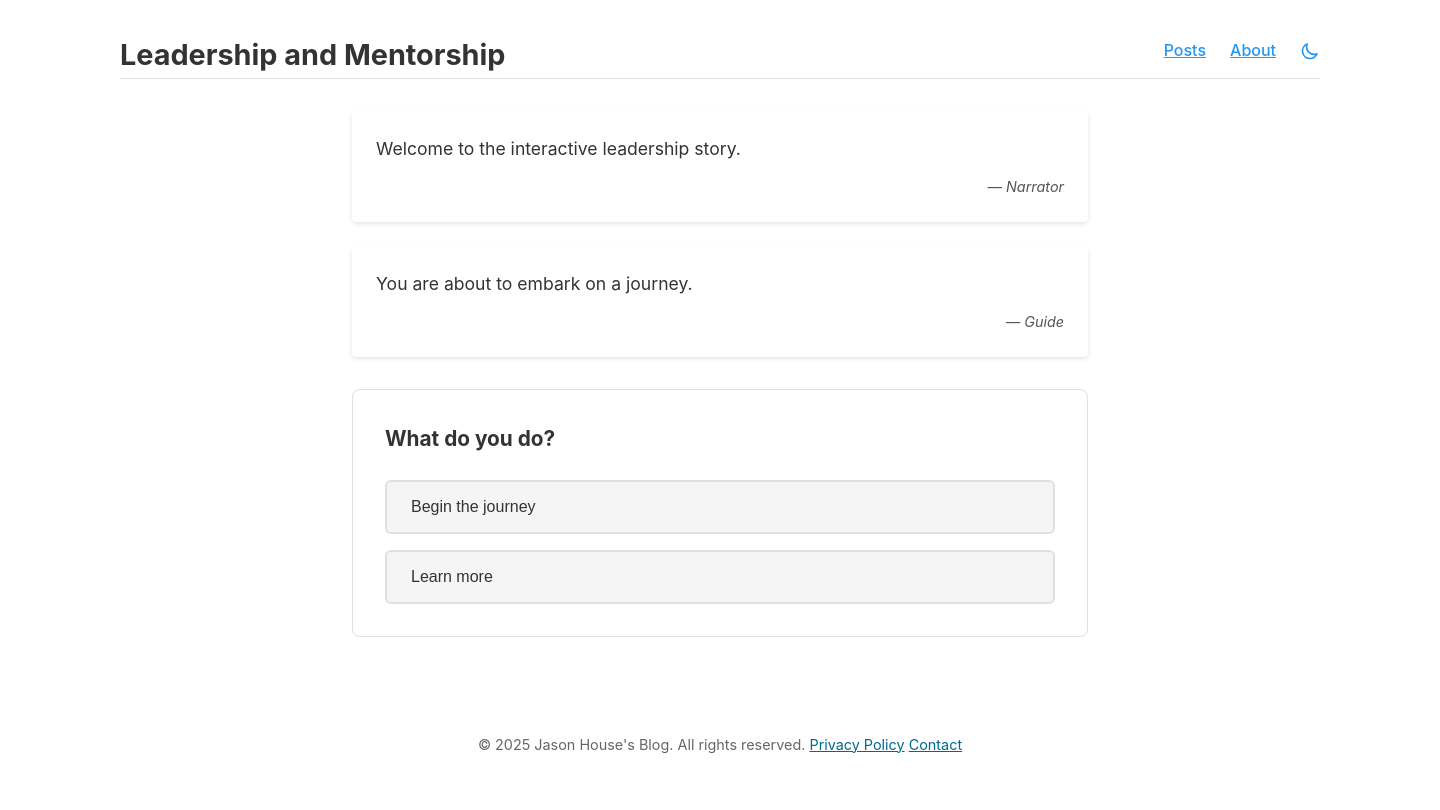
Test: Story Page › Story Navigation › displays "Choose Another Story" button at story end
Click the button "Begin the journey" at (473, 506), box left=385, top=480, right=1055, bottom=534
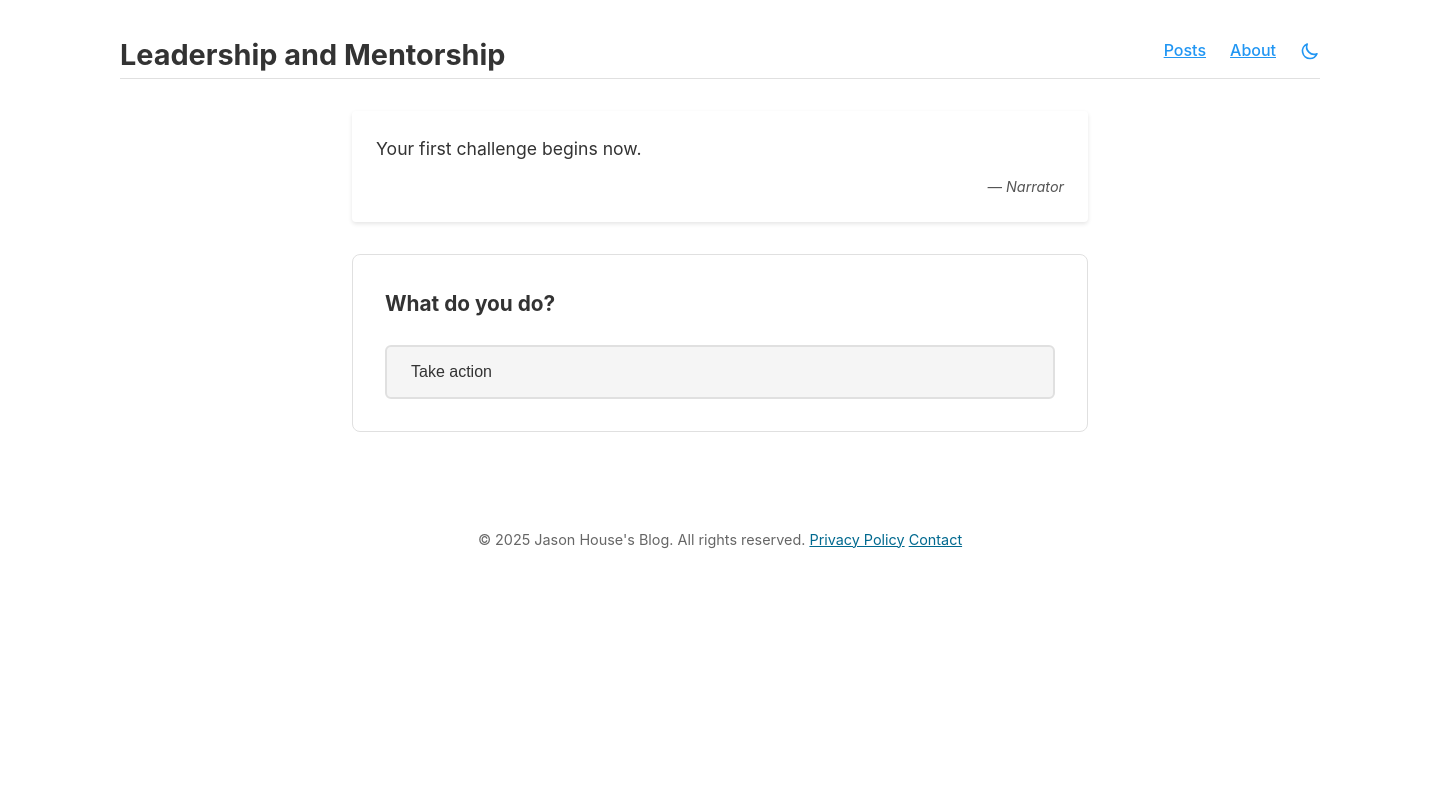
Expected: the button "Take action" is shown
Click the button "Take action" at (451, 371), box left=385, top=344, right=1055, bottom=398
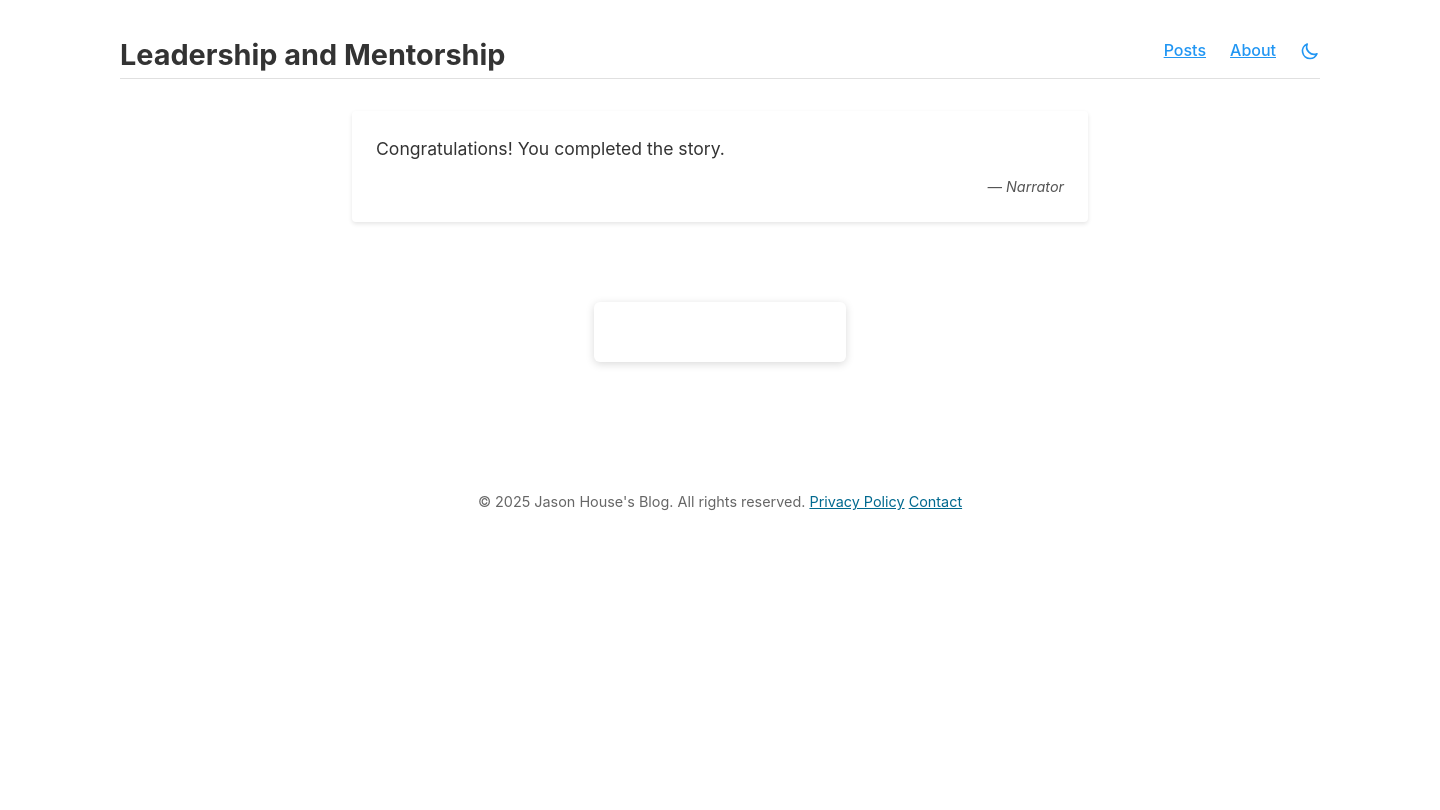
Expected: the text "Congratulations! You completed the story." is shown, left=376, top=138, right=725, bottom=159
